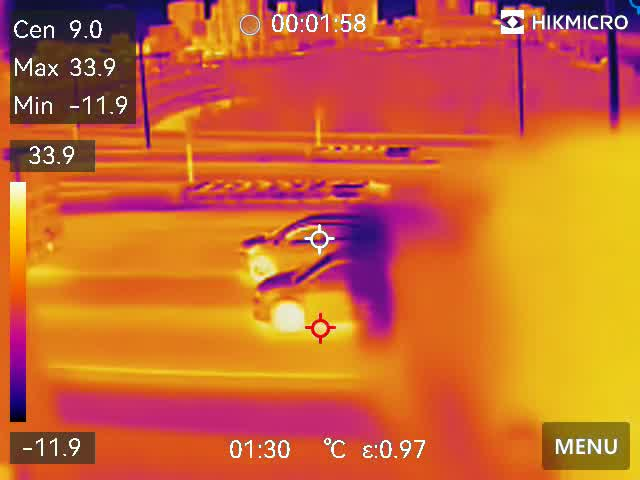vehicle: (253, 253, 374, 333), (241, 220, 364, 271)
